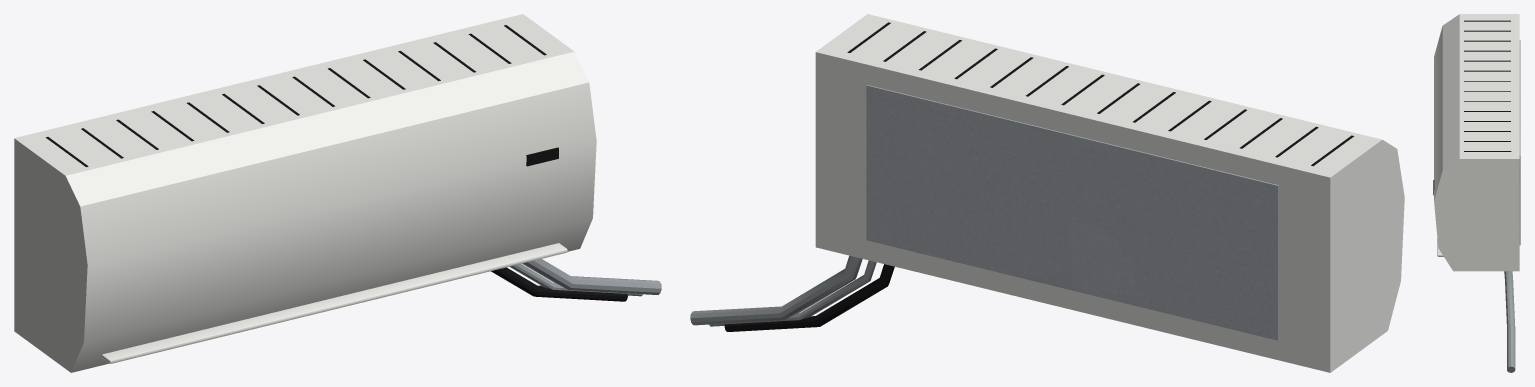
File: ductless-wall-mounted-indoor-unit.glb
3 renders of one model, left to right at view 1: azimuth 30°, elevation 25°; view 2: azimuth 150°, elevation 25°; view 3: azimuth 270°, elevation 25°, orthographic. The views are drawn at different scales.
Visible parts, largest first — view 1: Indoor unit housing - Indoor unit housing, white plastic, Louvre flap - Indoor unit housing, white plastic, Refrigerant pipes and drain hose - Hoses, translucent grey, Indoor unit housing - Fan shrouds, openings and drain, black, Refrigerant pipes and drain hose - Fan shrouds, openings and; view 2: Indoor unit housing - Indoor unit housing, white plastic, Mounting plate - Tube sheets and brackets, galvanised steel, Refrigerant pipes and drain hose - Hoses, translucent grey, Indoor unit housing - Fan shrouds, openings and drain, black, Refrigerant pipes and drain hose - Fan shrouds, openings and; view 3: Indoor unit housing - Indoor unit housing, white plastic, Indoor unit housing - Fan shrouds, openings and drain, black, Refrigerant pipes and drain hose - Hoses, translucent grey, Mounting plate - Tube sheets and brackets, galvanised steel.
Part boxes in pixels (box(x1,y1,x2,y2)): Indoor unit housing - Indoor unit housing, white plastic: box(14, 14, 596, 372); Louvre flap - Indoor unit housing, white plastic: box(101, 243, 567, 363); Refrigerant pipes and drain hose - Hoses, translucent grey: box(509, 259, 661, 296); Indoor unit housing - Fan shrouds, openings and drain, black: box(46, 25, 546, 167); Refrigerant pipes and drain hose - Fan shrouds, openings and: box(491, 267, 627, 301); Indoor unit housing - Indoor unit housing, white plastic: box(815, 14, 1404, 372); Mounting plate - Tube sheets and brackets, galvanised steel: box(866, 85, 1278, 340); Refrigerant pipes and drain hose - Hoses, translucent grey: box(690, 255, 876, 326); Indoor unit housing - Fan shrouds, openings and drain, black: box(847, 22, 1353, 166); Refrigerant pipes and drain hose - Fan shrouds, openings and: box(724, 264, 894, 331); Indoor unit housing - Indoor unit housing, white plastic: box(1434, 14, 1519, 271); Indoor unit housing - Fan shrouds, openings and drain, black: box(1464, 20, 1511, 151); Refrigerant pipes and drain hose - Hoses, translucent grey: box(1504, 271, 1515, 372); Mounting plate - Tube sheets and brackets, galvanised steel: box(1519, 40, 1520, 245).
Bounding box in the file's own units: 1 × 0.4601 × 0.2035.
5 materials, 5 textured.
